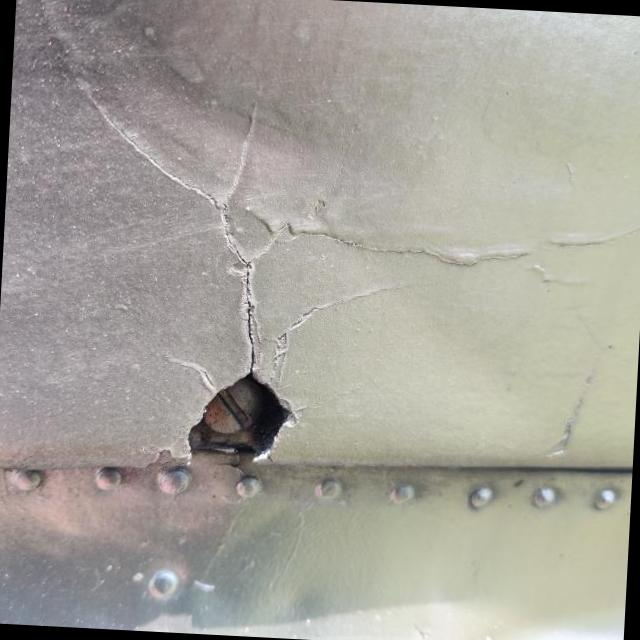Crack: (87, 90, 312, 470)
